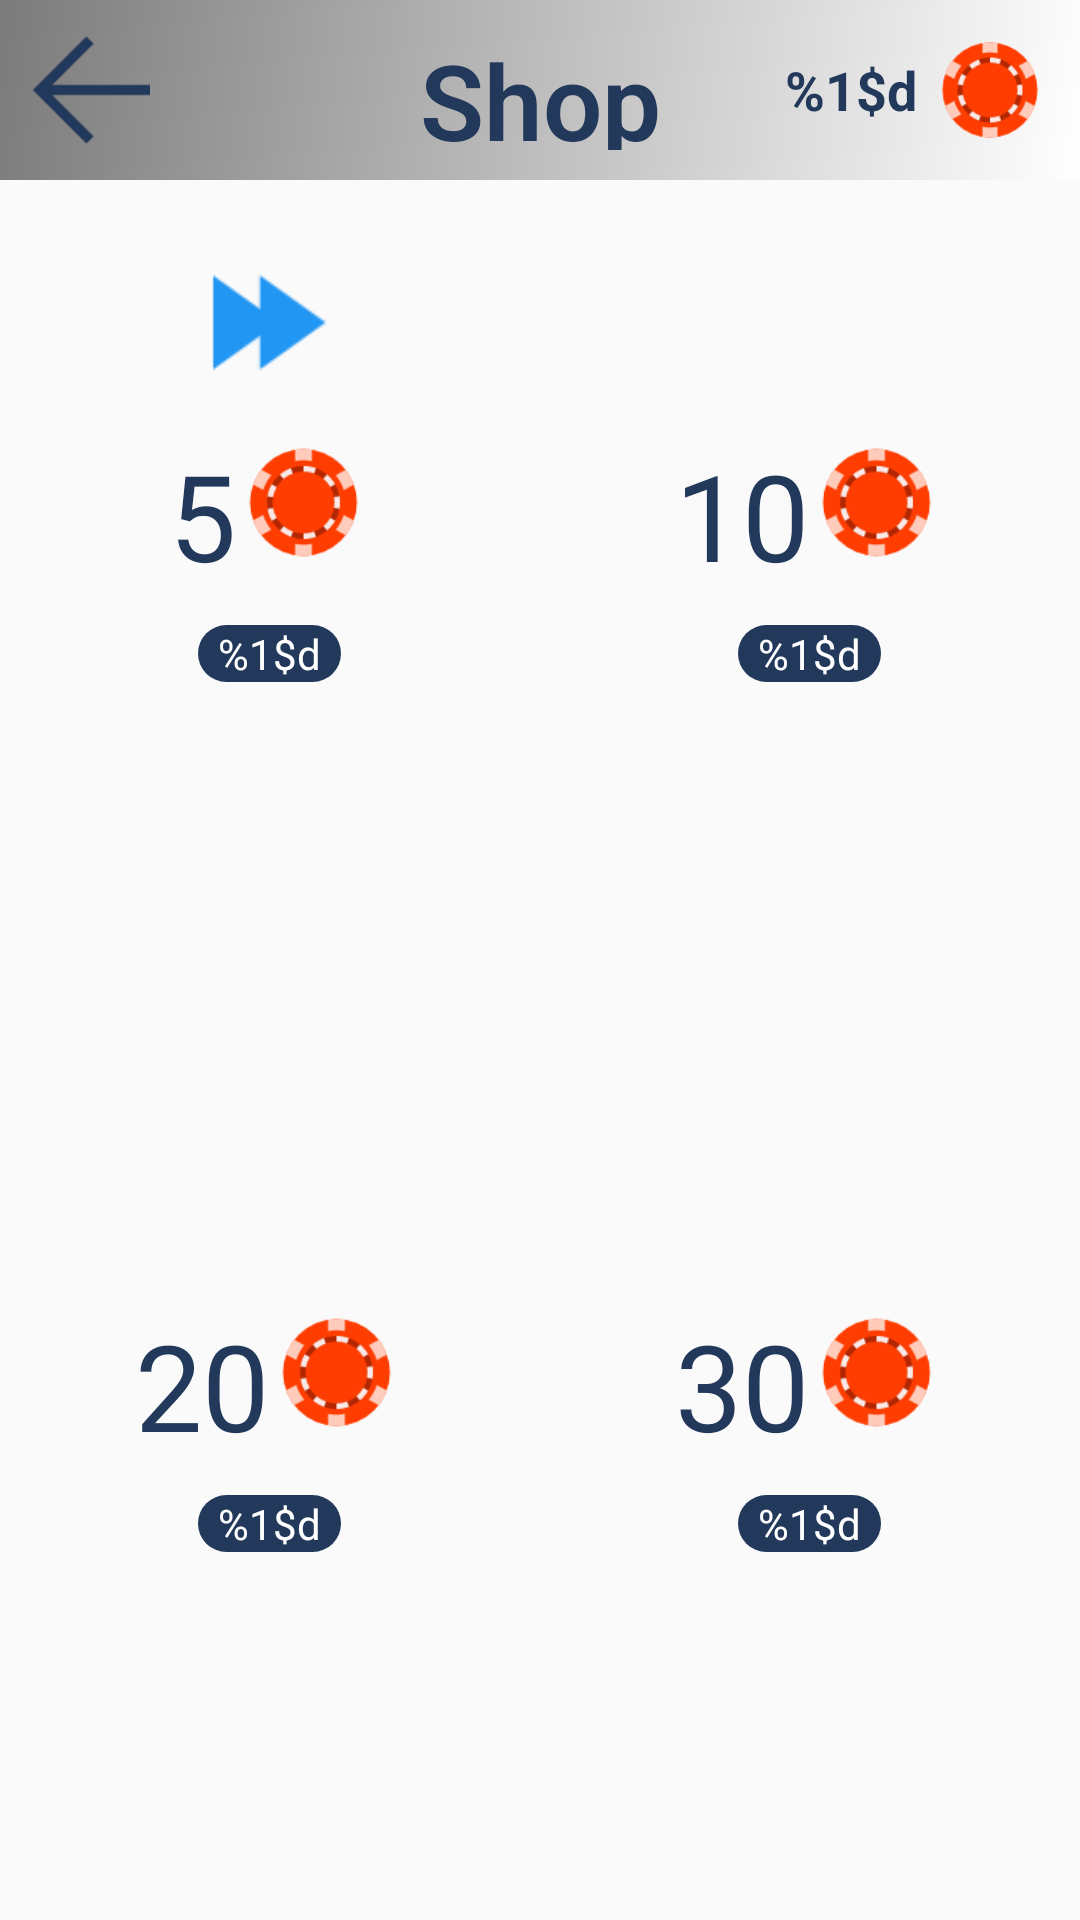

Named icons in this screenshot (1080 × 1920) and their centers, (x=x, y=y):
back: (x=91, y=90)
chip: (x=990, y=90), (x=303, y=502), (x=876, y=502), (x=336, y=1372), (x=876, y=1372)
skip: (x=269, y=322)
